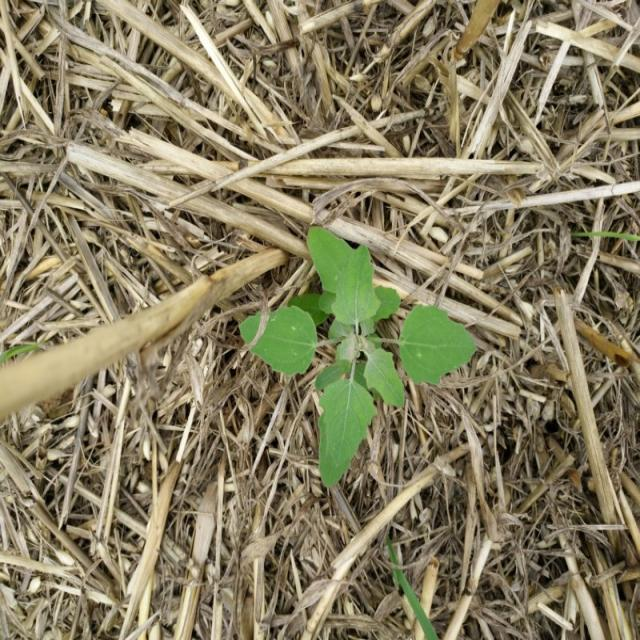ca: (237, 224, 476, 484)
